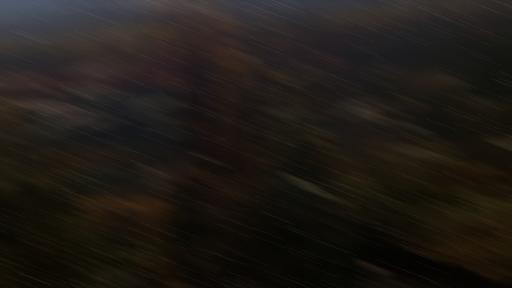Fish: (65, 165, 140, 192), (70, 107, 123, 128), (286, 174, 333, 197), (67, 59, 116, 78), (87, 60, 132, 77), (40, 110, 91, 125), (395, 147, 452, 160), (22, 101, 83, 112), (133, 96, 182, 109), (77, 167, 128, 179), (476, 98, 511, 115), (69, 85, 122, 96), (0, 76, 53, 86), (355, 109, 388, 124), (24, 126, 79, 135), (115, 95, 150, 108), (140, 168, 177, 179), (270, 37, 305, 48), (302, 124, 339, 133), (343, 101, 376, 111), (17, 97, 52, 106), (144, 178, 167, 191), (266, 105, 289, 118), (155, 127, 184, 136), (154, 114, 183, 123), (277, 28, 302, 38), (403, 123, 430, 132), (281, 72, 303, 83), (490, 140, 511, 151), (38, 85, 59, 96), (332, 111, 363, 118), (130, 113, 157, 120), (263, 120, 284, 127), (80, 98, 105, 103), (164, 81, 179, 88), (505, 84, 511, 89)
